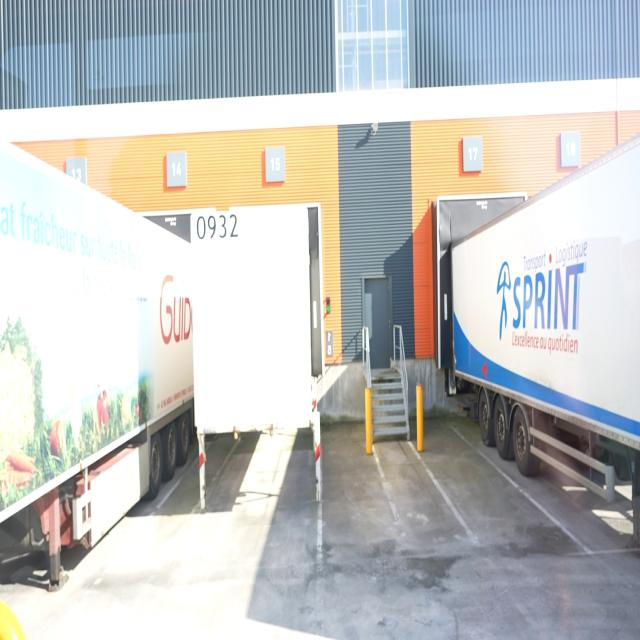Code: (194, 212, 240, 246)
